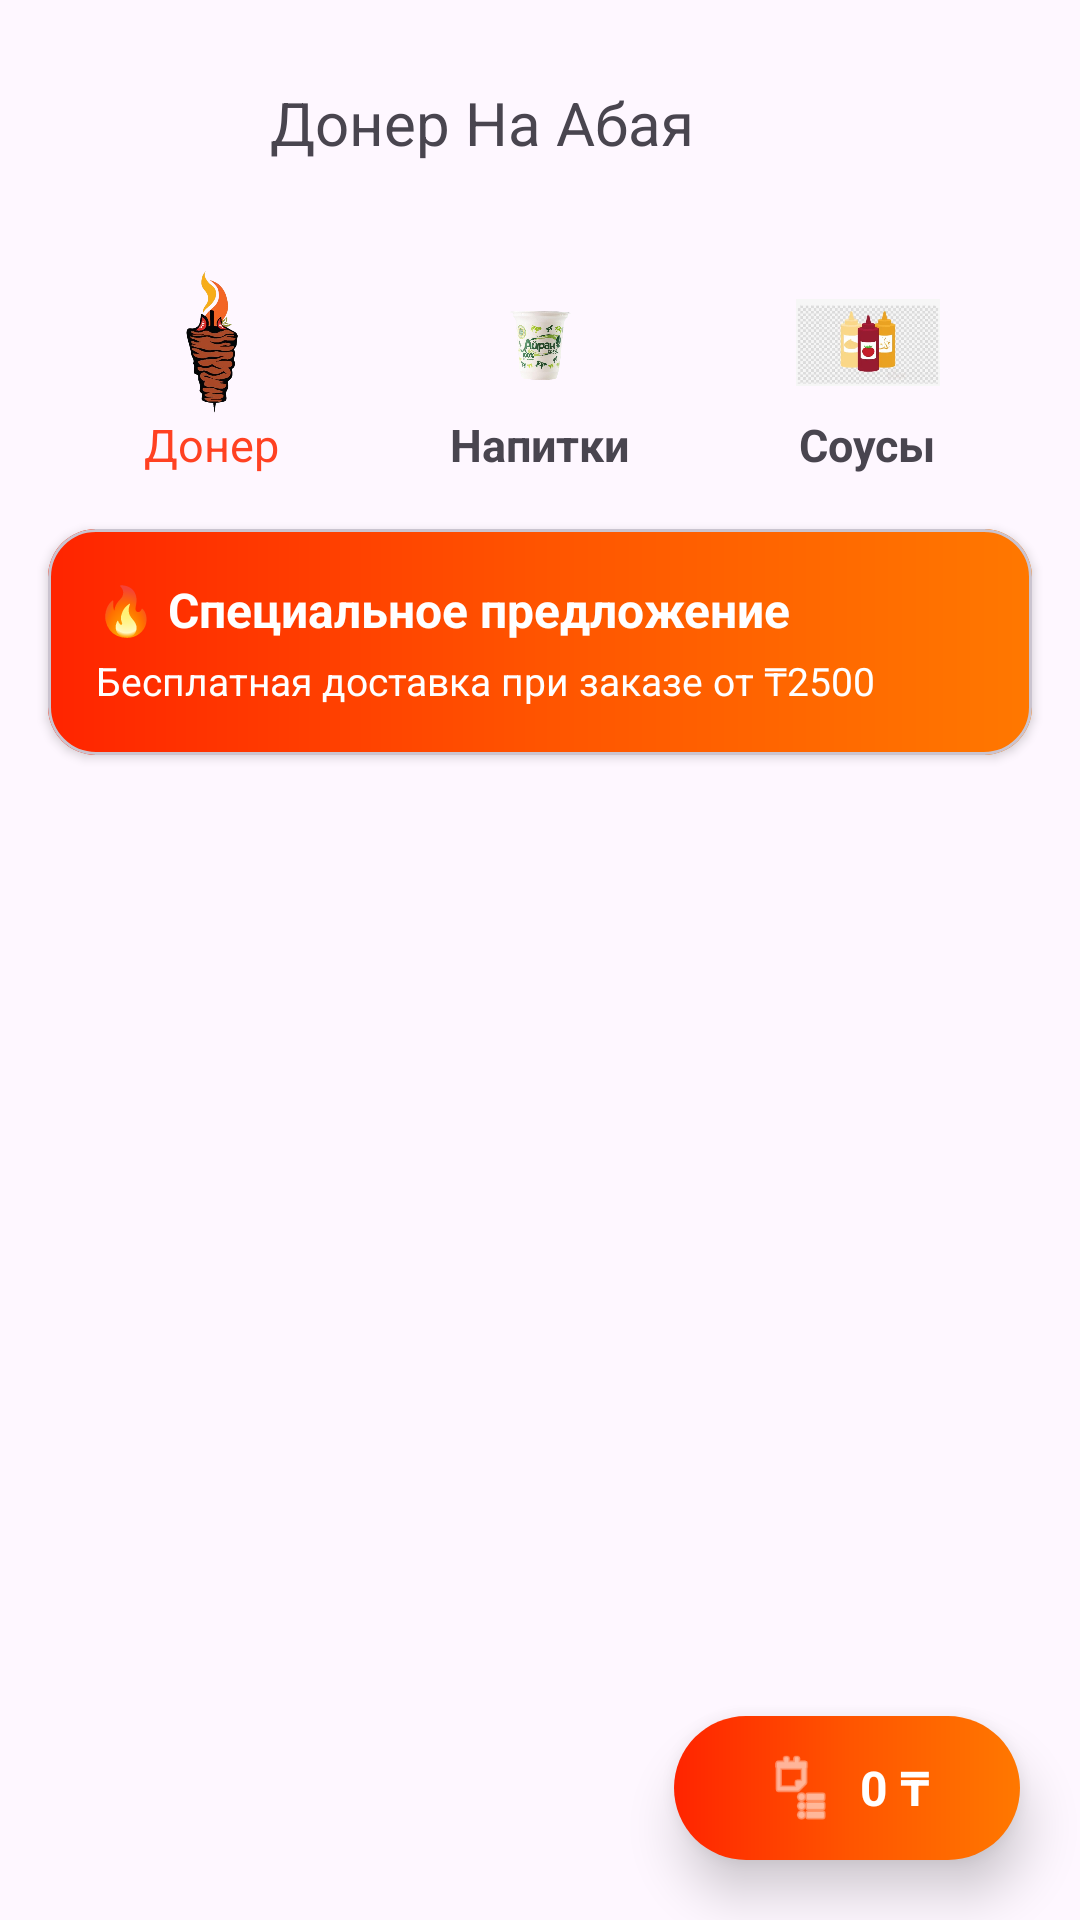

Screen size 1080*1920. Icon name, then its box in pixels as {"x1": x1, "y1": y1, "x2": x2, "y2": y2}:
drink: {"x1": 517, "y1": 311, "x2": 569, "y2": 380}
